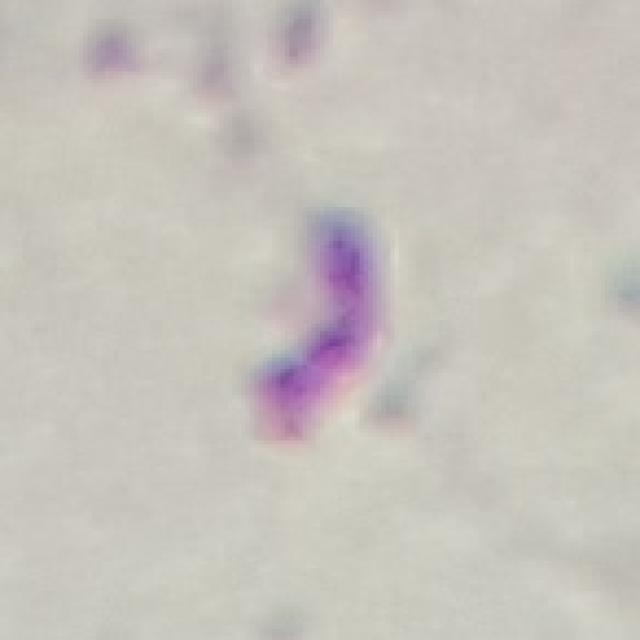non-sperm: (250, 210, 394, 448)
